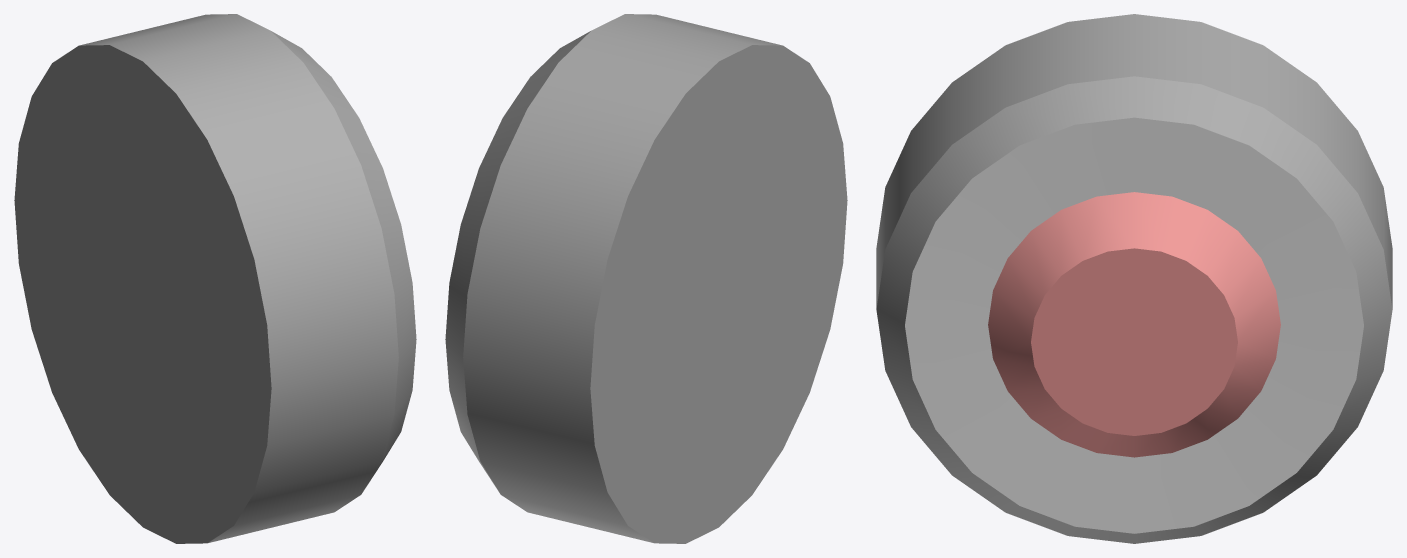
The model's file is wheelRed.gltf.
3 renders of one model, left to right at view 1: azimuth 30°, elevation 25°; view 2: azimuth 150°, elevation 25°; view 3: azimuth 270°, elevation 25°, orthographic.
Parts seen in each view (by area): view 1: wheelRed_8angles; view 2: wheelRed_8angles; view 3: wheelRed_8angles.
Part boxes in pixels (bbox=[...]): wheelRed_8angles: bbox=[14, 14, 416, 543]; wheelRed_8angles: bbox=[445, 14, 847, 543]; wheelRed_8angles: bbox=[876, 14, 1392, 543].
Size of the model in its own units: 0.1212 by 0.28 by 0.28.
